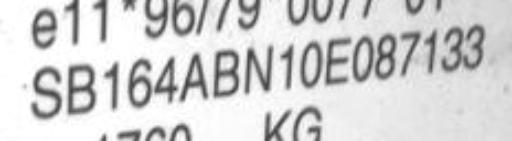letter: (28, 63, 66, 122), (240, 41, 278, 96), (176, 50, 210, 105), (66, 59, 98, 114), (212, 45, 240, 100), (324, 35, 354, 84), (128, 55, 156, 106), (97, 57, 125, 108), (395, 26, 423, 75), (298, 37, 326, 86), (154, 53, 180, 104), (276, 37, 300, 92), (351, 33, 377, 80), (463, 20, 487, 70), (441, 22, 465, 71), (375, 31, 399, 78), (421, 24, 443, 73)
